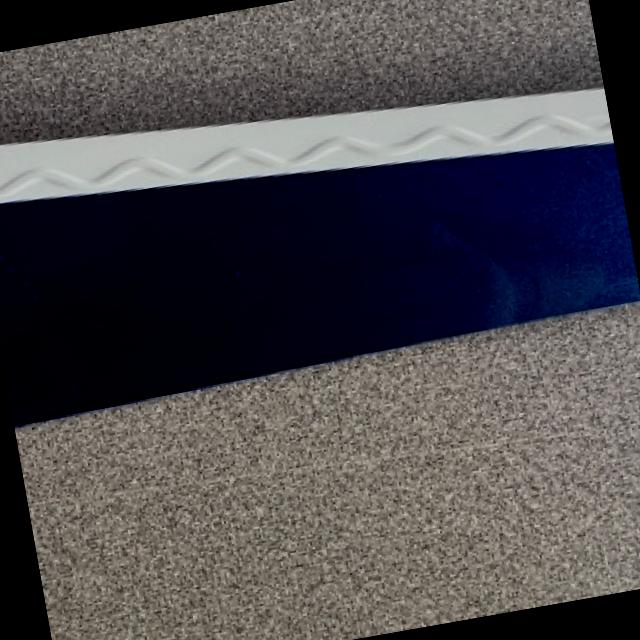healthy: (0, 86, 639, 424)
